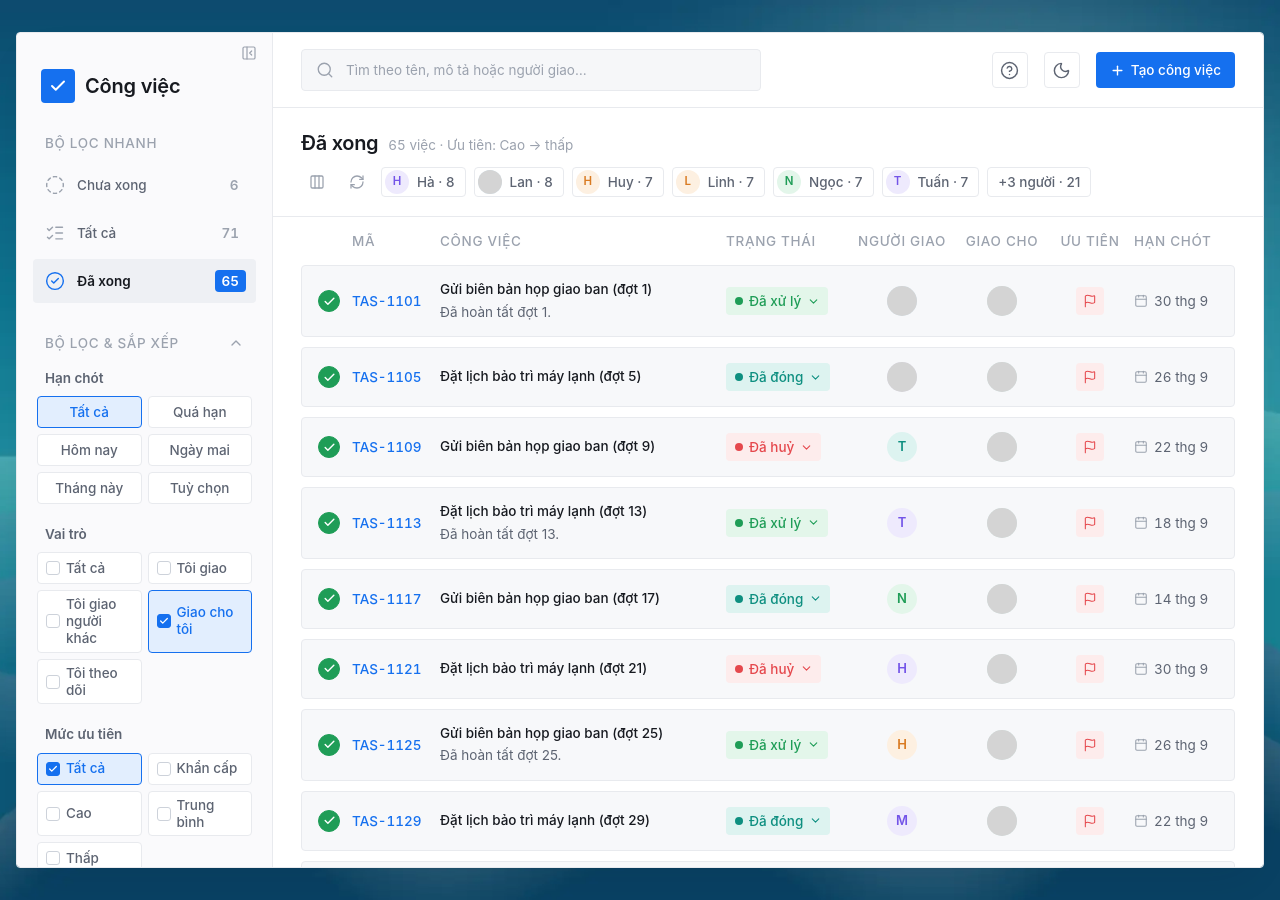
Scenario: Vai trò: multi-select roles (AC3, AC5) › ignores answers that belong to an older roles selection (race)
Step 1. Click the checkbox with test id "role-filter-reporter" → (200, 568), box [148,552,252,584]
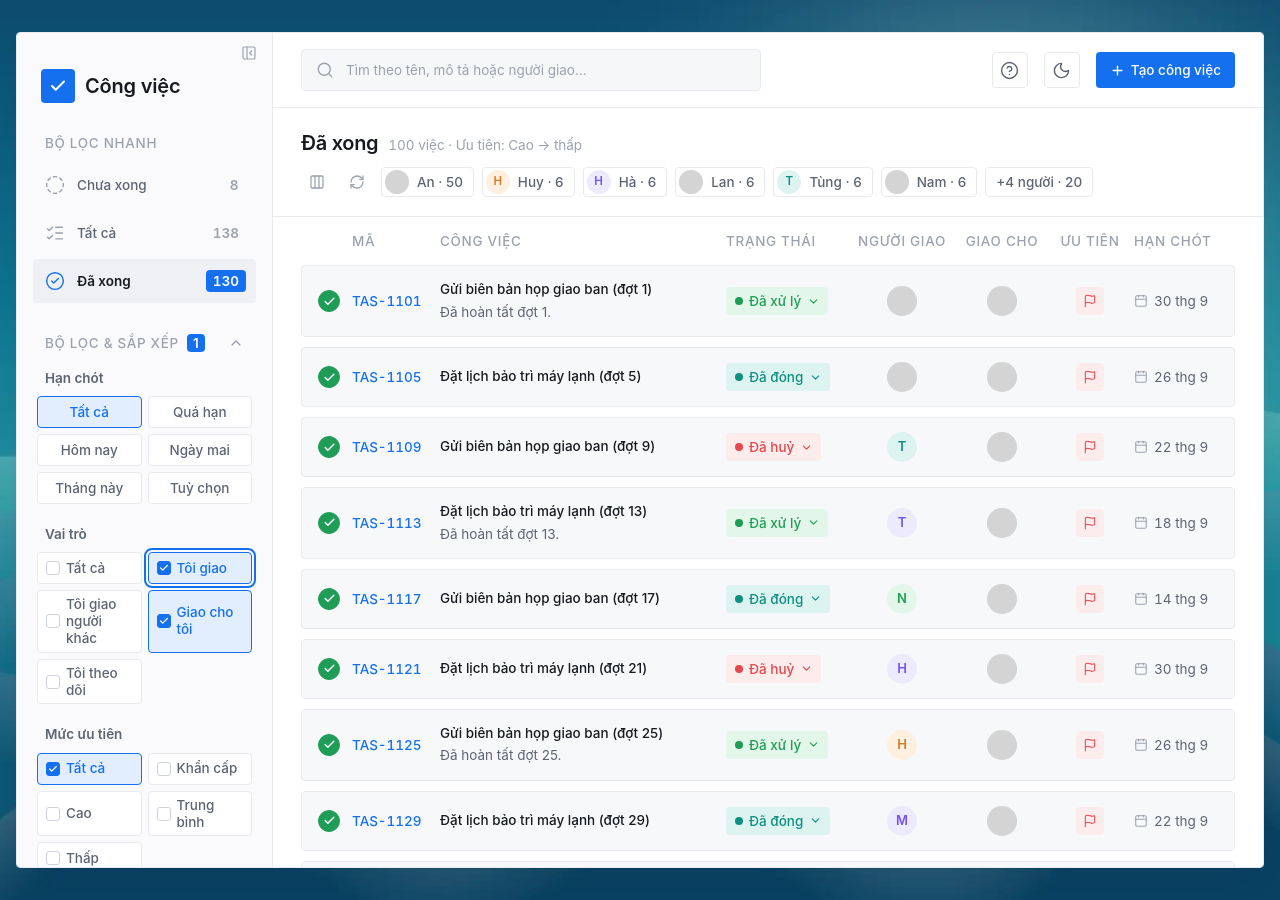
Step 2. Click the checkbox with test id "role-filter-assignee" → (200, 621), box [148,590,252,653]
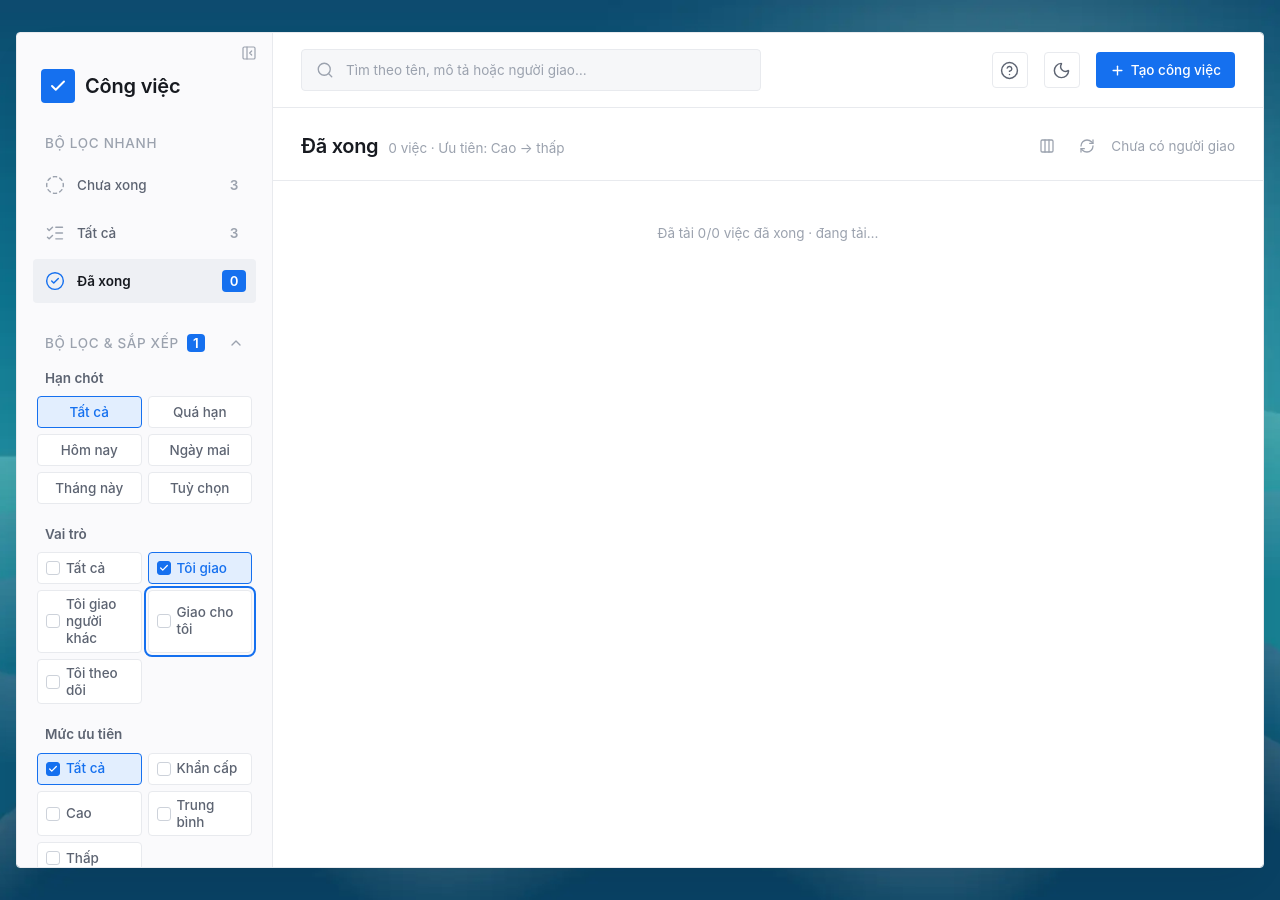
Step 3. Click the checkbox with test id "role-filter-cc" → (89, 682), box [37,659,142,704]
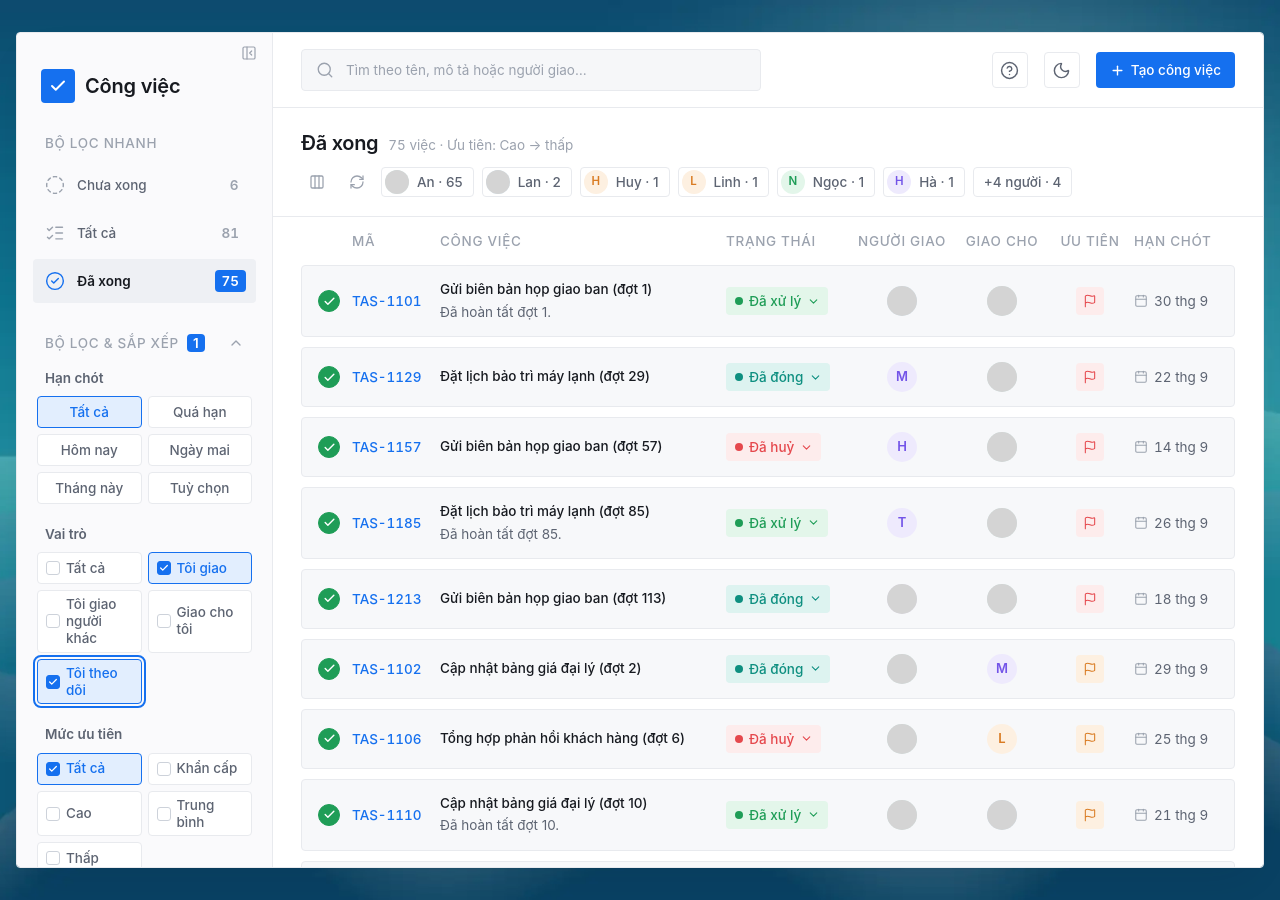
Step 4. Click the checkbox with test id "role-filter-reporter" → (200, 568), box [148,552,252,584]
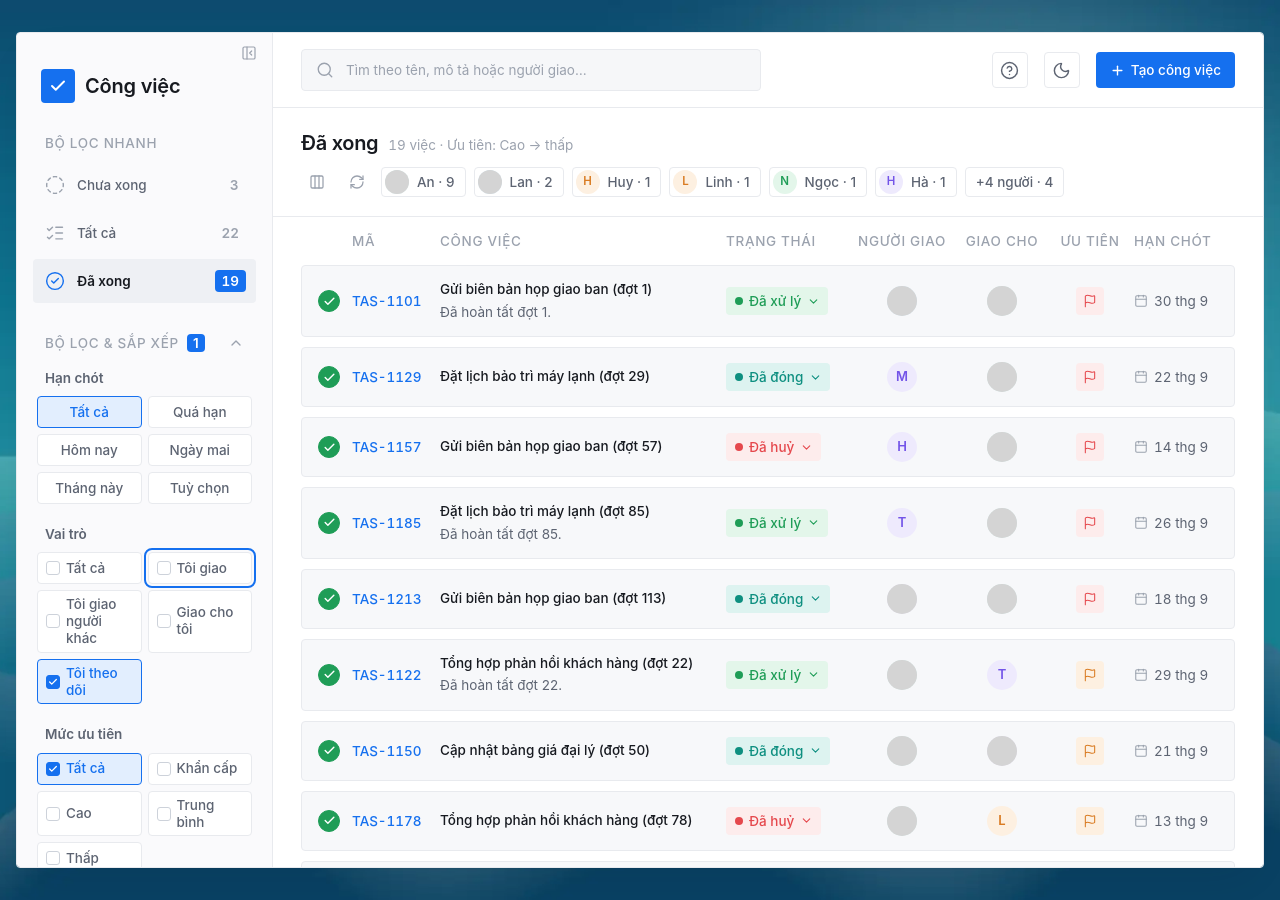
expect the checkbox with test id "role-filter-cc" is checked: met, box [37,659,142,704]
expect the checkbox with test id "role-filter-reporter" is not checked: met, box [148,552,252,584]
expect the text with test id "count-done" reads "19": met, box [222,273,239,289]
